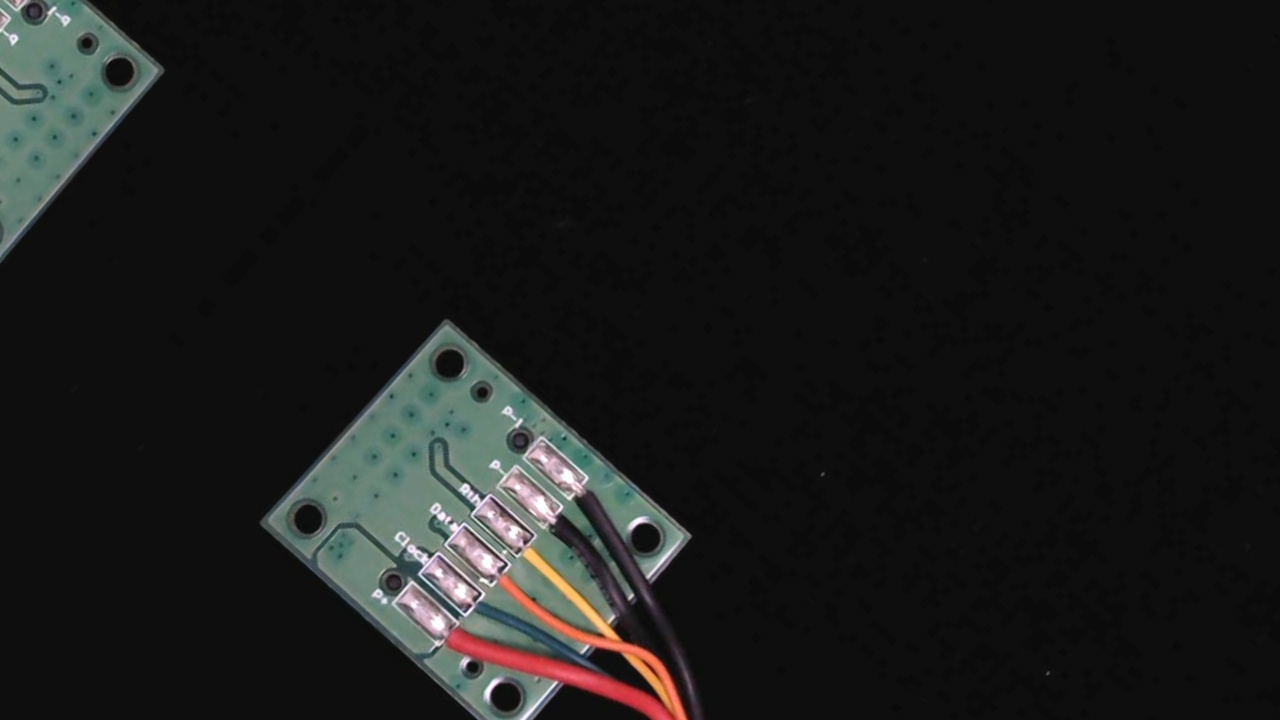Black: (529, 498, 595, 561)
Black1: (557, 467, 621, 528)
Green: (452, 582, 518, 645)
Orange: (476, 553, 544, 619)
Red: (428, 613, 496, 677)
Yellow: (502, 525, 575, 594)
